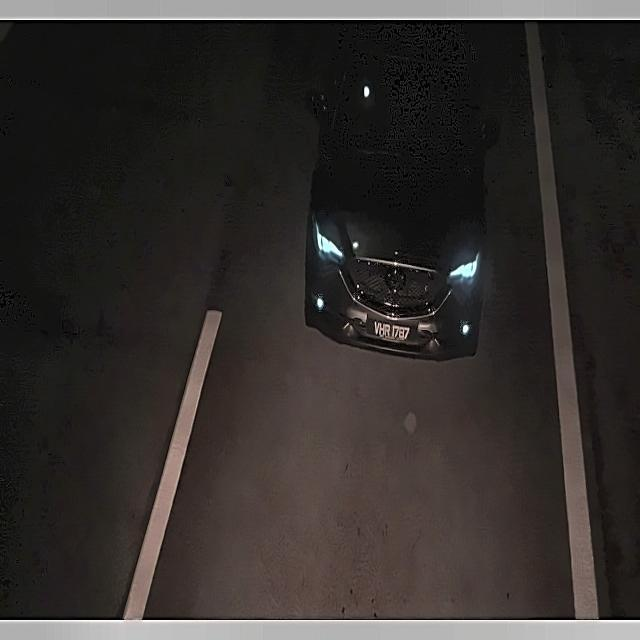car: (362, 318, 417, 344)
